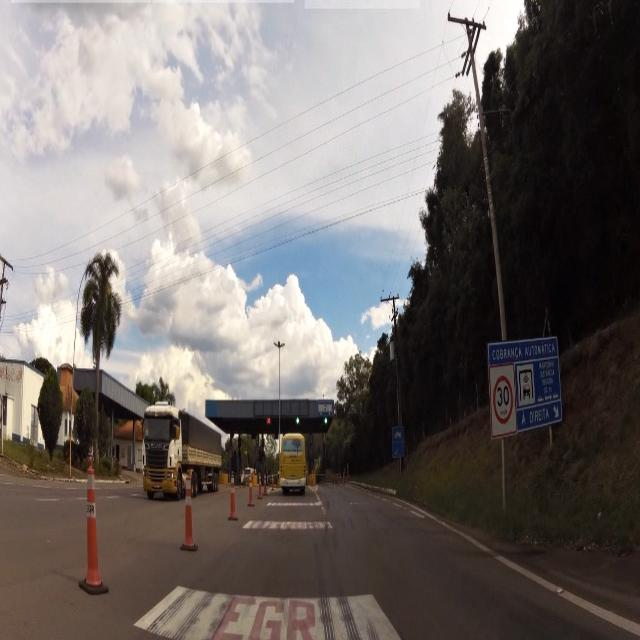R-19: (493, 370, 513, 429)
